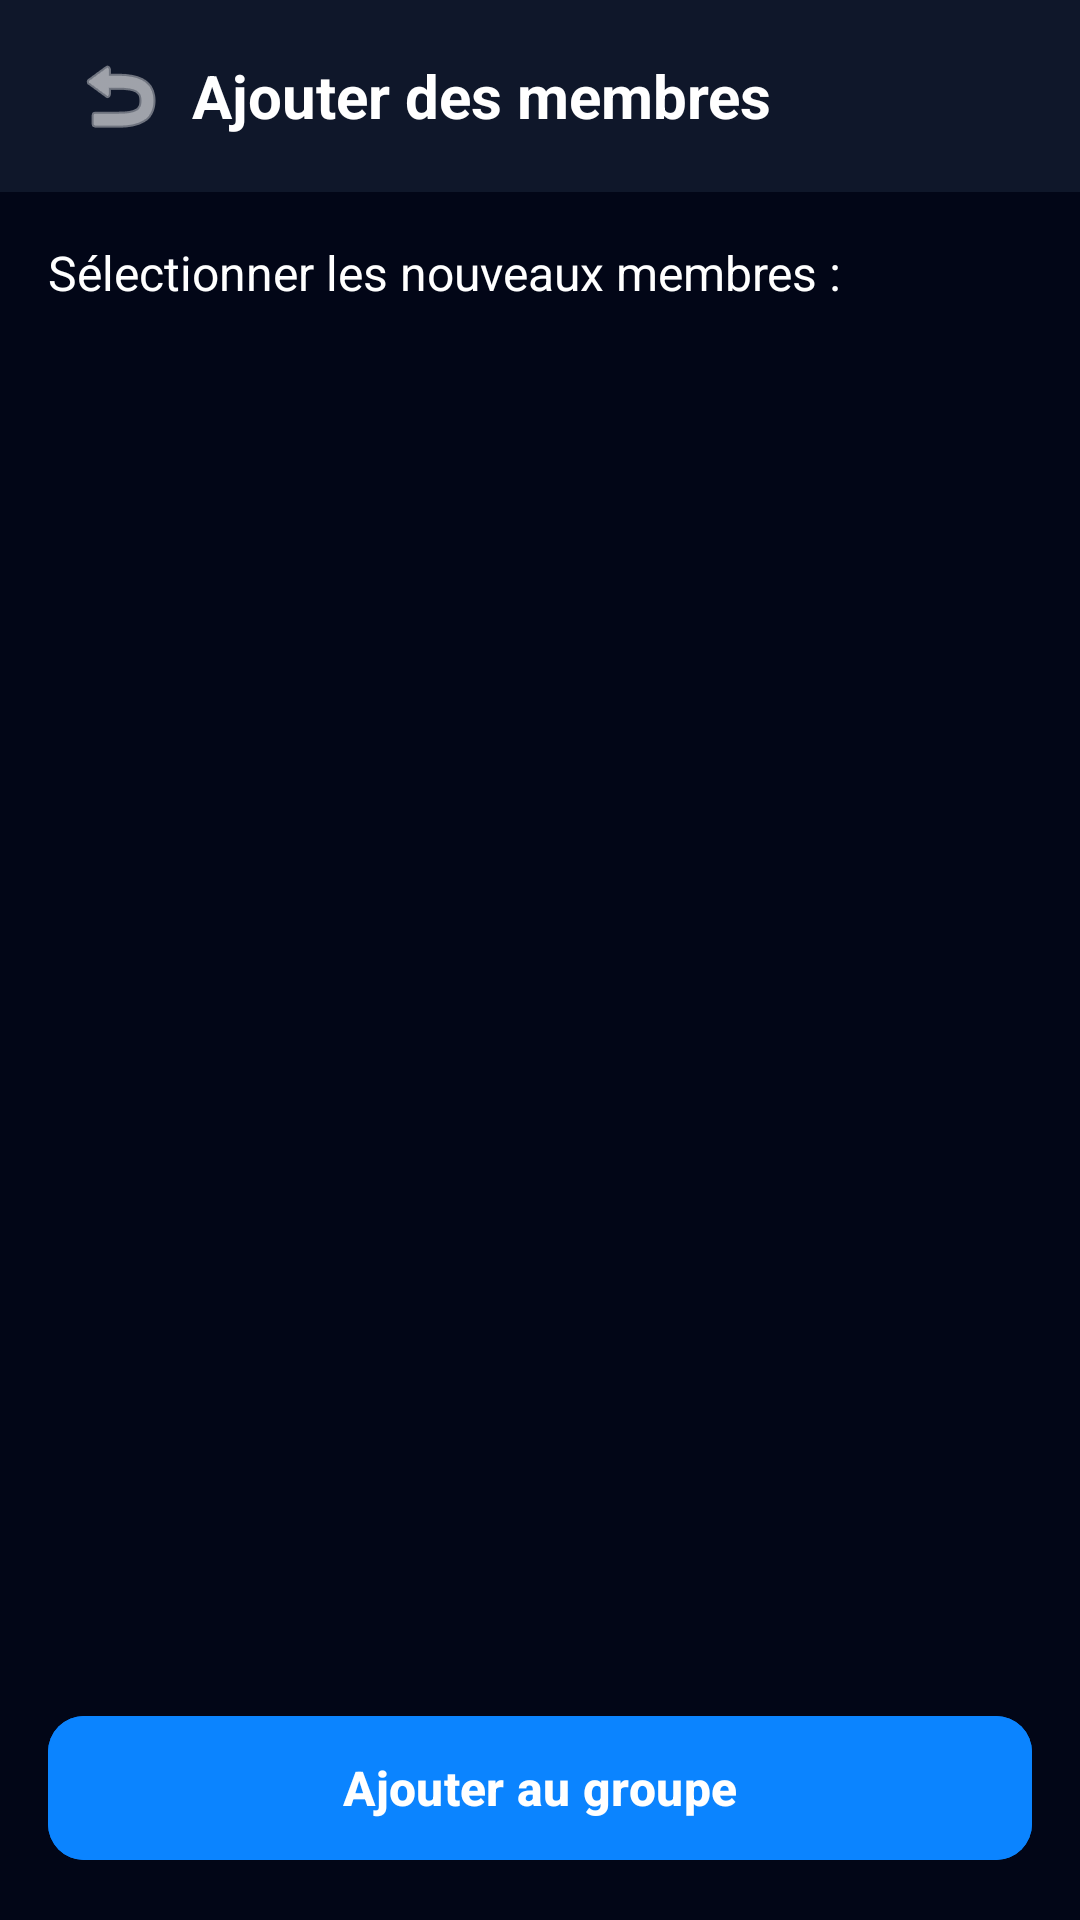

Locate icon controls on the screen. Image size 1080w x 1920h, boxes as (x1, y1, x2, y2).
revert: (87, 65, 156, 128)
